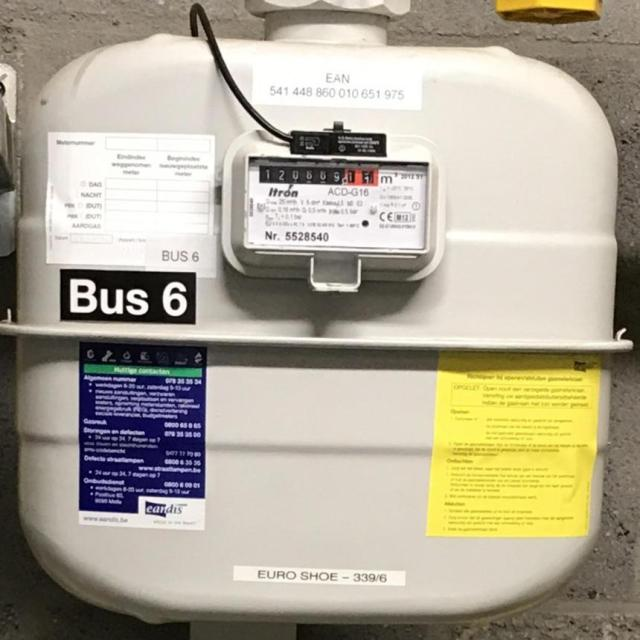gaz_meter: (249, 158, 427, 253)
indication: (259, 163, 380, 187)
